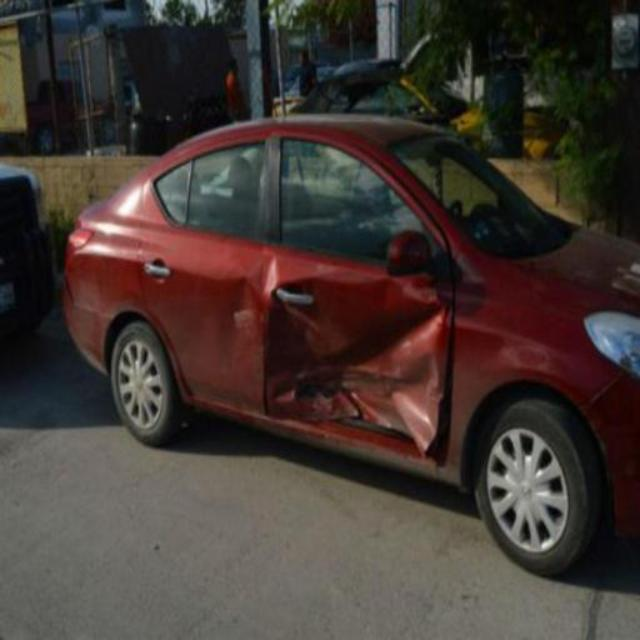dent: (264, 261, 455, 466), (221, 276, 258, 364), (261, 247, 279, 303)
